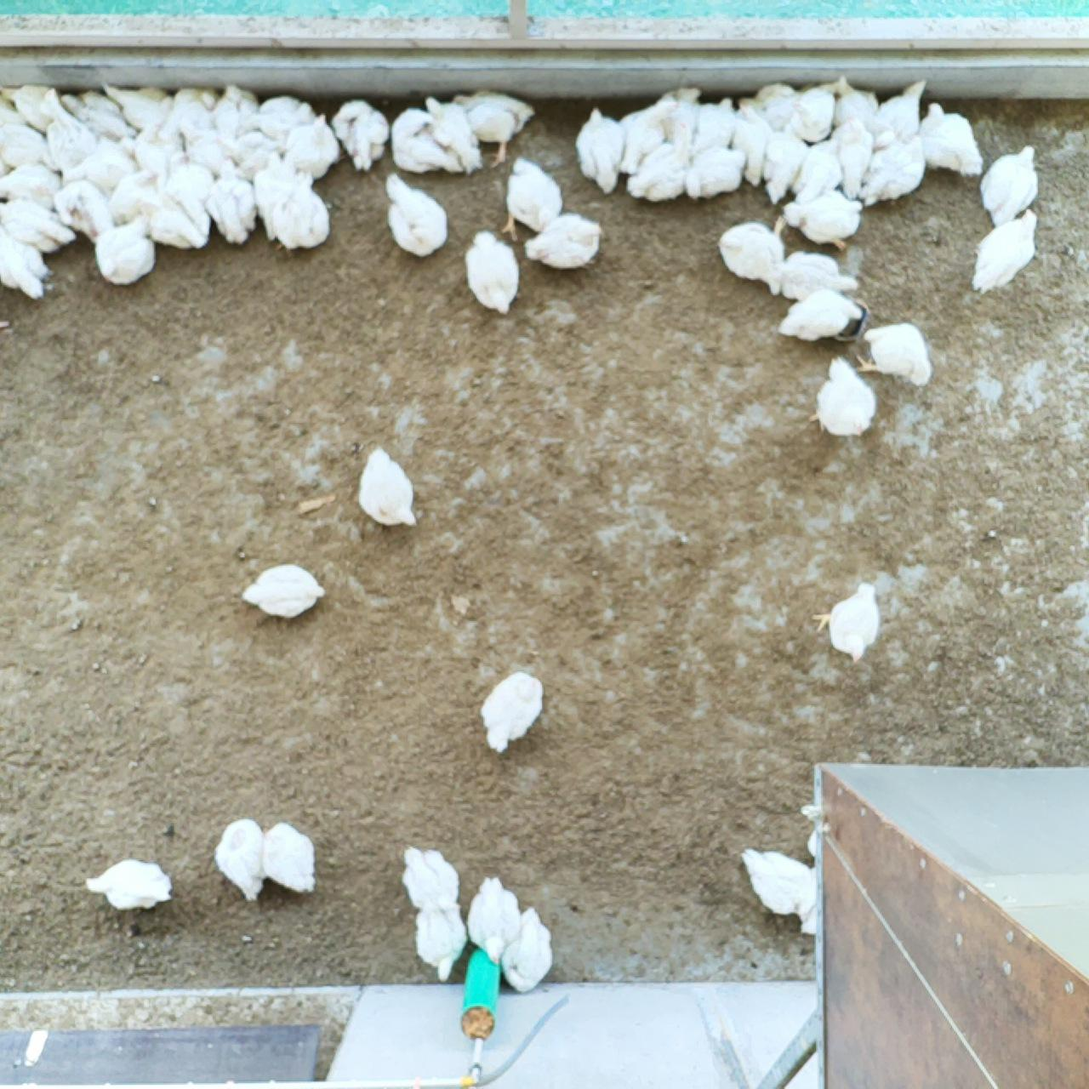chicken: (453, 85, 539, 172), (806, 352, 883, 446), (714, 209, 792, 299), (969, 207, 1043, 301), (381, 169, 452, 262), (811, 577, 885, 666), (851, 319, 944, 389), (351, 442, 422, 533), (495, 154, 567, 241), (780, 183, 868, 252), (977, 140, 1043, 232), (476, 666, 550, 748), (82, 852, 178, 915), (626, 120, 695, 206), (914, 98, 986, 180), (240, 557, 329, 623), (859, 129, 930, 210), (462, 224, 523, 318), (201, 155, 262, 248), (773, 285, 864, 347), (736, 842, 812, 916), (421, 90, 487, 175), (571, 103, 630, 196), (388, 103, 462, 177), (497, 905, 557, 996), (465, 872, 524, 964), (257, 817, 324, 898), (269, 172, 332, 256), (524, 211, 609, 272), (617, 92, 677, 177), (93, 212, 158, 289), (212, 815, 268, 903), (779, 245, 863, 303), (413, 902, 470, 987), (330, 96, 392, 174), (871, 78, 931, 158), (402, 844, 469, 915), (132, 189, 209, 249), (282, 109, 344, 180), (760, 118, 810, 204), (832, 108, 877, 203), (0, 200, 78, 254), (729, 101, 775, 188), (103, 81, 175, 136), (682, 144, 750, 202), (36, 91, 88, 165), (792, 136, 845, 208), (61, 85, 138, 134), (0, 234, 55, 302), (248, 91, 314, 144), (792, 78, 844, 145), (737, 77, 800, 132), (75, 133, 144, 182), (55, 180, 110, 238), (0, 120, 60, 173), (210, 78, 261, 140), (129, 114, 183, 172), (109, 165, 160, 225), (662, 78, 704, 147), (0, 159, 63, 205), (1, 84, 64, 130), (163, 149, 214, 205), (832, 75, 880, 133), (256, 150, 286, 240), (180, 122, 230, 175), (172, 84, 220, 138), (694, 97, 739, 154), (231, 128, 280, 178)
